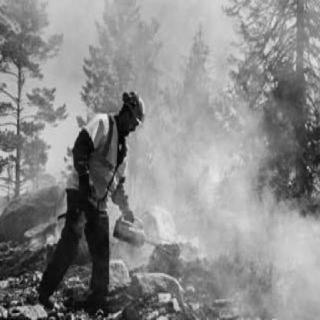Fire: (145, 50, 217, 204)
